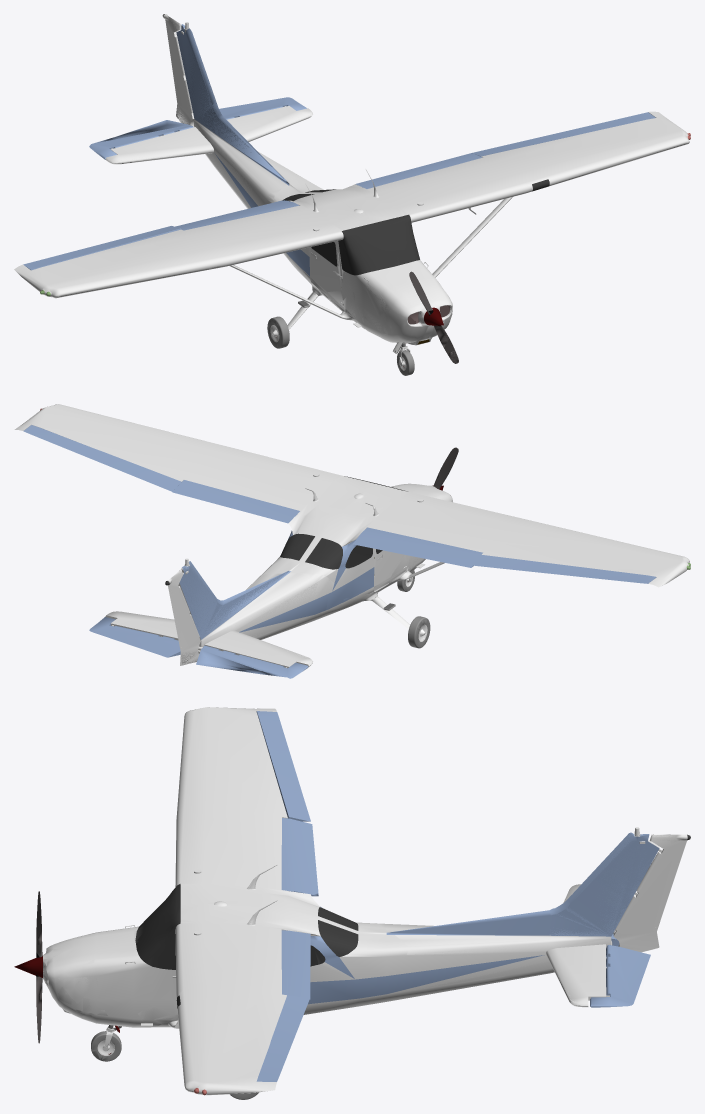
File: fracturedCessna.fbx
The picture shows the model from 3 angles, top to bottom: view 1: azimuth 30°, elevation 25°; view 2: azimuth 150°, elevation 25°; view 3: azimuth 270°, elevation 25°; orthographic projection. The views are drawn at different scales.
Visible parts, largest first — view 1: cessna172sp_Shape, cessna172sp_Shape_cell.076, cessna172sp_Shape_cell.254, cessna172sp_Shape_cell.255, cessna172sp_Shape_cell.204, cessna172sp_Shape_cell.173, cessna172sp_Shape_cell.049; view 2: cessna172sp_Shape, cessna172sp_Shape_cell.076, cessna172sp_Shape_cell.254, cessna172sp_Shape_cell.173, cessna172sp_Shape_cell.204, cessna172sp_Shape_cell.255, cessna172sp_Shape_cell.140, cessna172sp_Shape_cell.111; view 3: cessna172sp_Shape, cessna172sp_Shape_cell.076, cessna172sp_Shape_cell.204, cessna172sp_Shape_cell.173, cessna172sp_Shape_cell.016.
Boxes of the visible parts, x1=… form: cessna172sp_Shape: x1=14, y1=14, x2=690, y2=375; cessna172sp_Shape_cell.076: x1=105, y1=25, x2=312, y2=207; cessna172sp_Shape_cell.254: x1=89, y1=120, x2=193, y2=159; cessna172sp_Shape_cell.255: x1=163, y1=14, x2=194, y2=126; cessna172sp_Shape_cell.204: x1=219, y1=97, x2=306, y2=119; cessna172sp_Shape_cell.173: x1=355, y1=153, x2=480, y2=187; cessna172sp_Shape_cell.049: x1=362, y1=275, x2=399, y2=333; cessna172sp_Shape: x1=14, y1=404, x2=690, y2=676; cessna172sp_Shape_cell.076: x1=106, y1=561, x2=334, y2=667; cessna172sp_Shape_cell.254: x1=196, y1=645, x2=307, y2=678; cessna172sp_Shape_cell.173: x1=39, y1=427, x2=296, y2=523; cessna172sp_Shape_cell.204: x1=89, y1=617, x2=179, y2=657; cessna172sp_Shape_cell.255: x1=166, y1=570, x2=199, y2=665; cessna172sp_Shape_cell.140: x1=514, y1=562, x2=656, y2=583; cessna172sp_Shape_cell.111: x1=342, y1=579, x2=402, y2=621; cessna172sp_Shape: x1=14, y1=707, x2=690, y2=1099; cessna172sp_Shape_cell.076: x1=375, y1=832, x2=659, y2=1006; cessna172sp_Shape_cell.204: x1=590, y1=945, x2=650, y2=1007; cessna172sp_Shape_cell.173: x1=271, y1=930, x2=310, y2=1078; cessna172sp_Shape_cell.016: x1=58, y1=959, x2=102, y2=1014.
Bounding box in the file's own units: 439 × 123 × 326.
